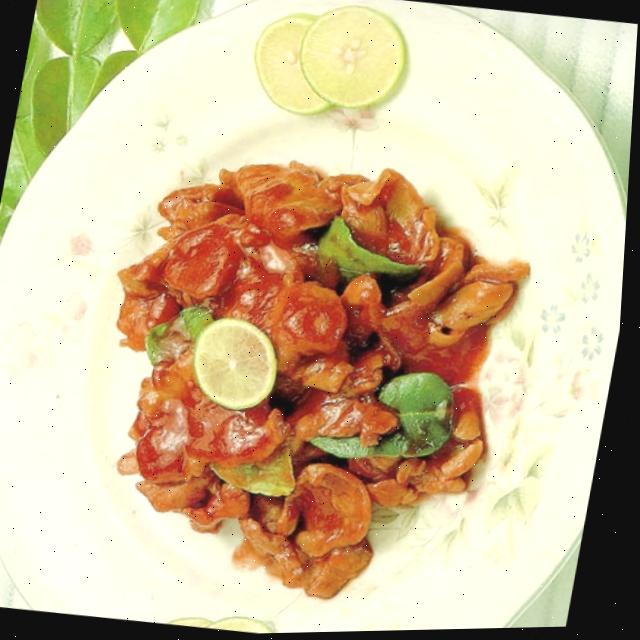猪肉菜式: (25, 89, 592, 639)
